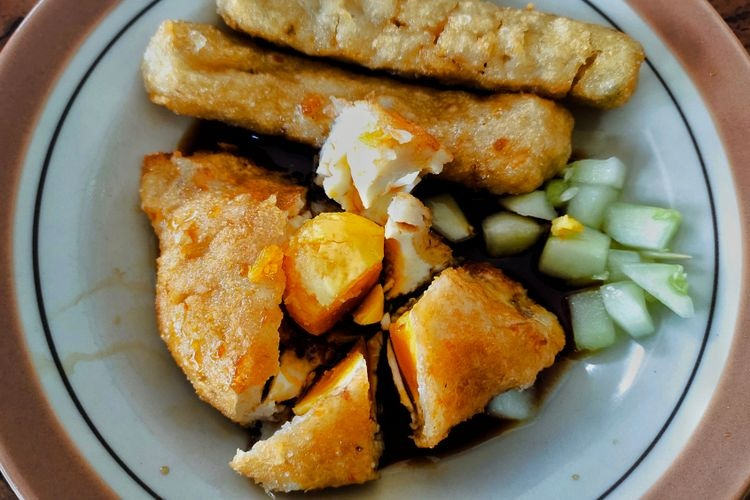pempek: (60, 8, 674, 480)
